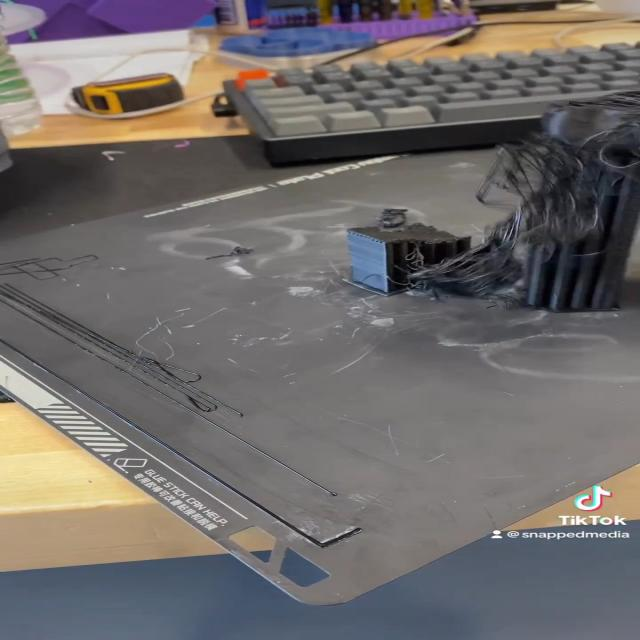spaghetti: (429, 100, 640, 286)
